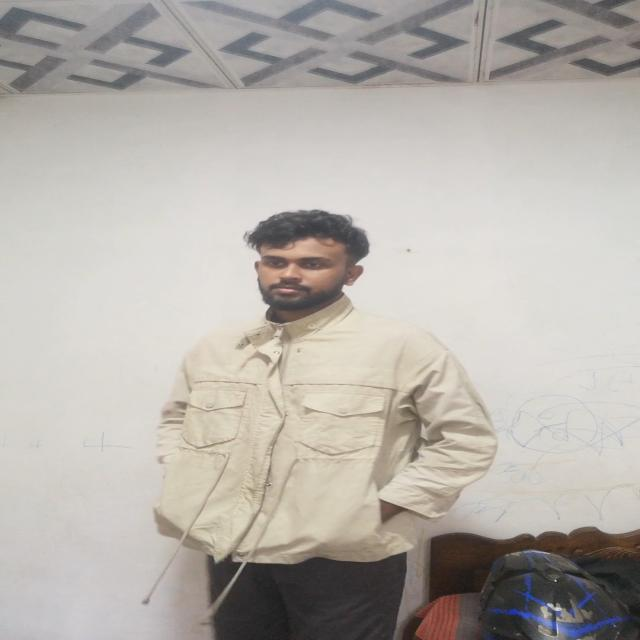Jacket_Wearer: (157, 305, 501, 567)
Person: (169, 208, 484, 640)
